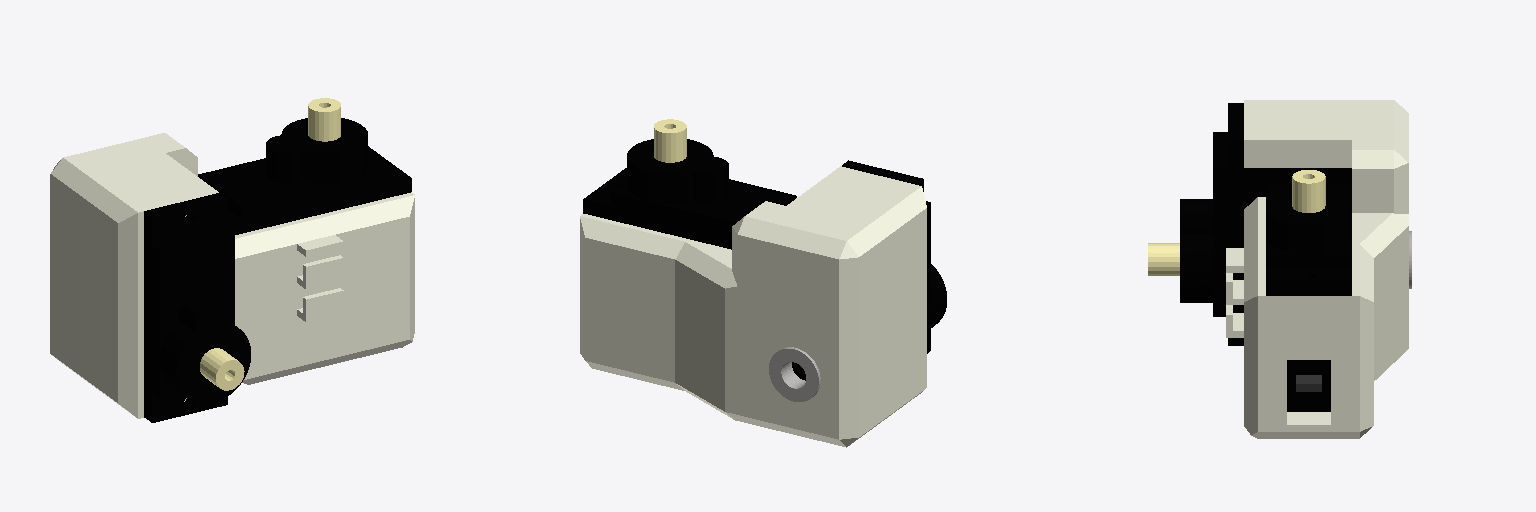
File: knuckle-merged.obj
3 views of the same model, side by side, from view 1: azimuth 30°, elevation 25°; view 2: azimuth 150°, elevation 25°; view 3: azimuth 270°, elevation 25° (orthographic).
Parts seen in each view (by area): view 1: Solid1.005; view 2: Solid1.005; view 3: Solid1.005.
Boxes of the visible parts, box(x1,y1,x2,y2) form: Solid1.005: box(50, 98, 414, 422); Solid1.005: box(580, 119, 946, 447); Solid1.005: box(1148, 100, 1411, 438).
Size of the model in its own units: 47.38 by 36.6 by 36.6.